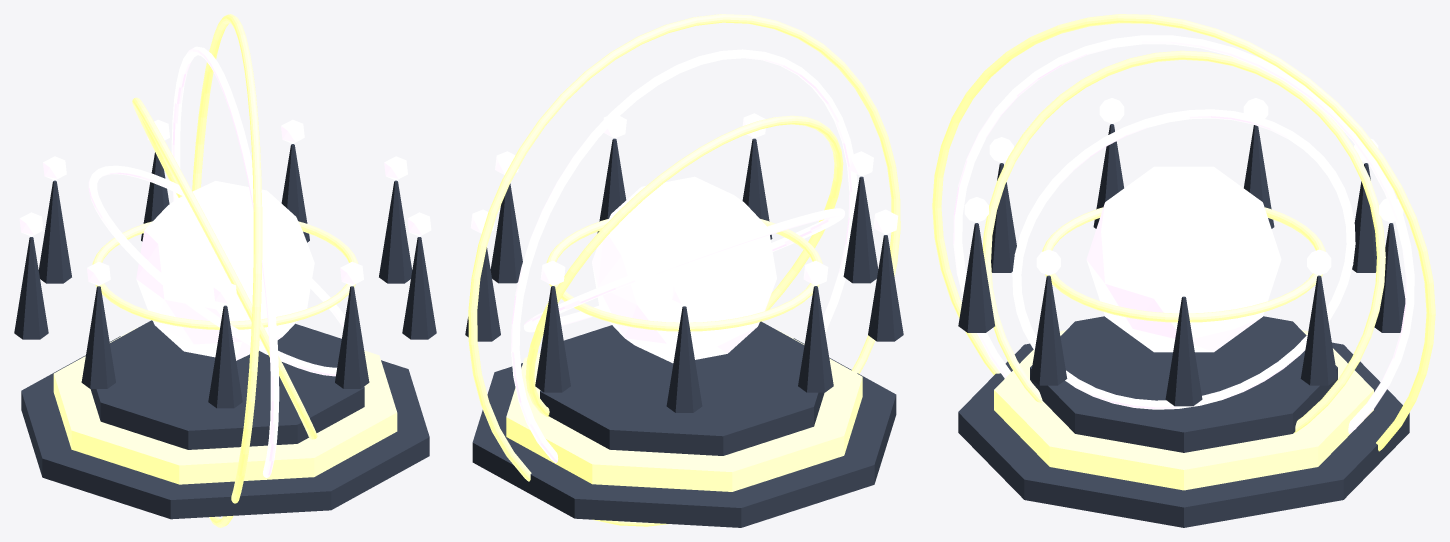
File: gpu-blender-v53.glb
The picture shows the model from 3 angles, left to right: view 1: azimuth 30°, elevation 25°; view 2: azimuth 150°, elevation 25°; view 3: azimuth 270°, elevation 25°; orthographic projection. The views are drawn at different scales.
Visible parts, largest first — view 1: Cylinder.002, Cylinder, SovereignCore_adytum-alchemist-ai-workflow, Cylinder.001, Torus.004, Torus.003, Torus.001, Torus.002, Torus, Cone.006, Cone.004, Cone.008 (+6 smaller); view 2: Cylinder.002, SovereignCore_adytum-alchemist-ai-workflow, Cylinder, Cylinder.001, Torus.004, Torus.003, Torus.002, Torus.001, Torus, Cone.005, Cone.002, Cone.004 (+6 smaller); view 3: SovereignCore_adytum-alchemist-ai-workflow, Cylinder.002, Cylinder, Cylinder.001, Torus.004, Torus.003, Torus.002, Torus.001, Torus, Cone, Cone.001, Cone.008 (+6 smaller).
Part boxes in pixels (x1,y1,x2,y2): Cylinder.002: [90, 320, 364, 449]; Cylinder: [21, 336, 429, 519]; SovereignCore_adytum-alchemist-ai-workflow: [136, 181, 314, 360]; Cylinder.001: [53, 327, 397, 484]; Torus.004: [192, 14, 262, 527]; Torus.003: [171, 46, 279, 479]; Torus.001: [88, 165, 345, 376]; Torus.002: [132, 97, 317, 439]; Torus: [92, 221, 358, 329]; Cone.006: [208, 305, 242, 408]; Cone.004: [14, 237, 48, 339]; Cone.008: [402, 237, 436, 339]; Cylinder.002: [540, 321, 824, 455]; SovereignCore_adytum-alchemist-ai-workflow: [592, 176, 776, 363]; Cylinder: [472, 338, 896, 527]; Cylinder.001: [506, 329, 862, 491]; Torus.004: [468, 14, 900, 526]; Torus.003: [511, 49, 857, 462]; Torus.002: [525, 115, 843, 416]; Torus.001: [523, 208, 844, 332]; Torus: [546, 219, 822, 331]; Cone.005: [868, 235, 903, 341]; Cone.002: [535, 286, 570, 392]; Cone.004: [798, 286, 833, 392]; SovereignCore_adytum-alchemist-ai-workflow: [1086, 166, 1281, 352]; Cylinder.002: [1030, 316, 1337, 452]; Cylinder: [958, 342, 1409, 527]; Cylinder.001: [994, 330, 1373, 490]; Torus.004: [932, 14, 1435, 451]; Torus.003: [953, 35, 1414, 433]; Torus.002: [983, 50, 1385, 432]; Torus.001: [1012, 109, 1355, 409]; Torus: [1042, 207, 1325, 322]; Cone: [1165, 296, 1202, 406]; Cone.001: [1300, 275, 1337, 385]; Cone.008: [1030, 275, 1067, 385].
Bounding box in the file's own units: 4.41 × 5.33 × 4.9.
